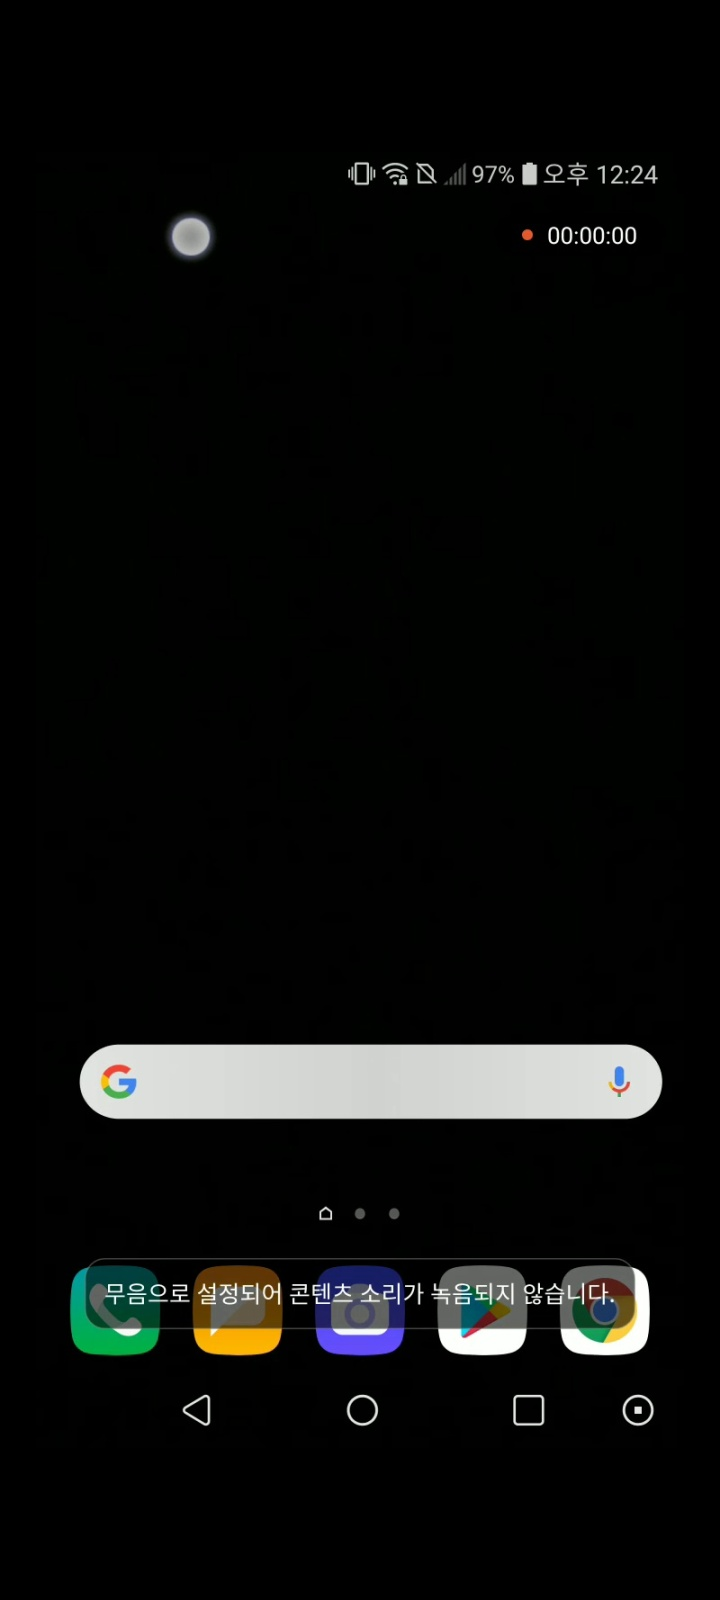Cursor: (169, 214, 214, 260)
